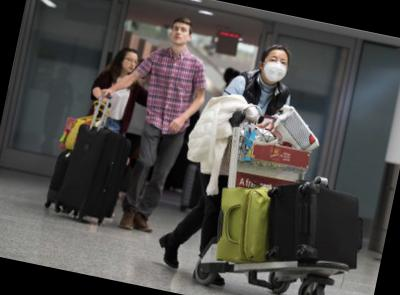with_mask: (261, 51, 291, 85)
without_mask: (169, 22, 192, 48), (120, 52, 141, 75)
